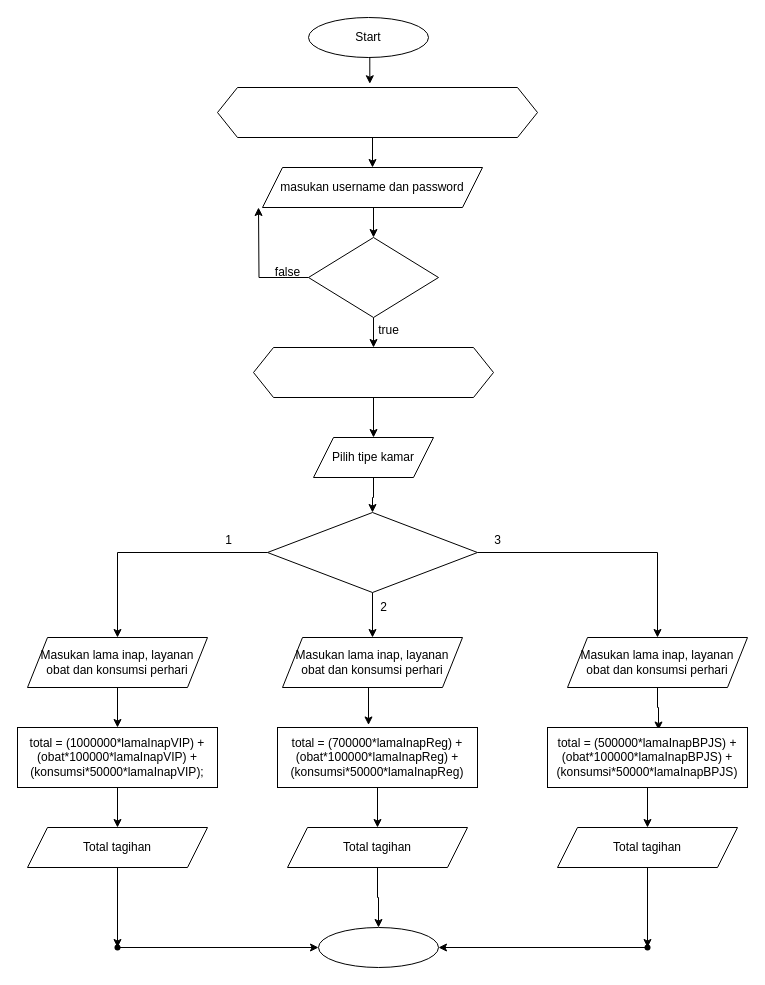
This 765x985 diagram has some shape labels left out. Each missing label, with the centre of its shape:
boolean berhasil string username, password: pixel 377 112
End: pixel 378 947
String kamar int lamaInapVIP, lamaInapReg, lamaInapBPJS, obat, konsumsi, total: pixel 373 372
tipe kamar? 1. VIP, 2. Reguler, 3.BPJS: pixel 372 552
username dan password benar?: pixel 373 277
